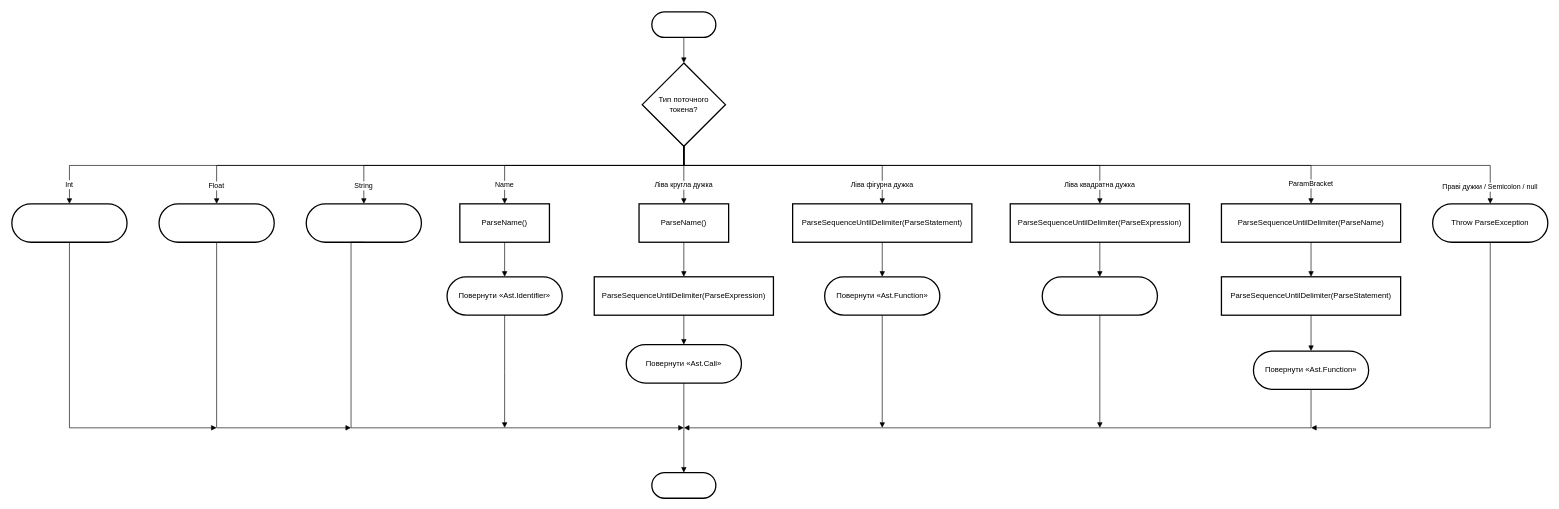
Some shapes in this 1559 by 509 pixel diagram are drawn without their labels. Here are the shapes that lost their labels. From the top down, the centre of each, then its label:
At pixel 683 24: "Початок".
At pixel 69 223: "Повернути «Ast.IntLiteral»".
At pixel 216 223: "Повернути «Ast.FloatLiteral»".
At pixel 363 223: "Повернути «Ast.StringLiteral»".
At pixel 1099 296: "Повернути «Ast.ExpressionList»".
At pixel 683 485: "Кінець".
